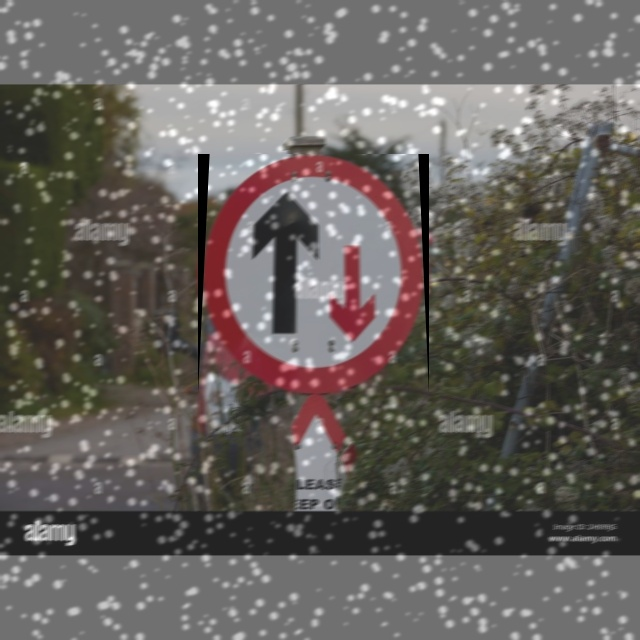Priority_for_Oncoming_Traffic: (198, 154, 429, 394)
